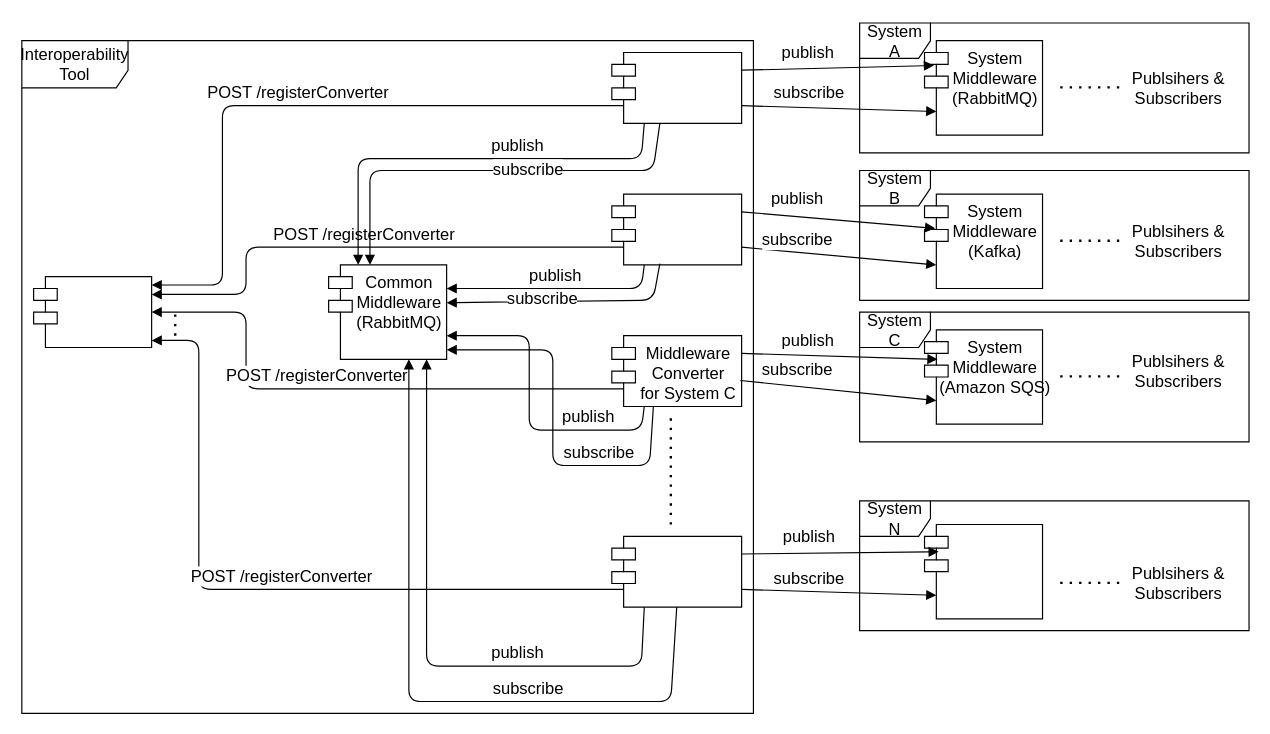
Some shapes in this 1270 by 734 pixel diagram are drawn without their labels. Here are the shapes that lost their labels. From the top down, the centre of each, then its label:
At point 676,87: "Middleware Converter for System A".
At point 676,229: "Middleware Converter for System B".
At point 92,312: "Converter Configurator".
At point 676,571: "Middleware Converter for System N".
At point 983,571: "System Middleware (X Broker)".
